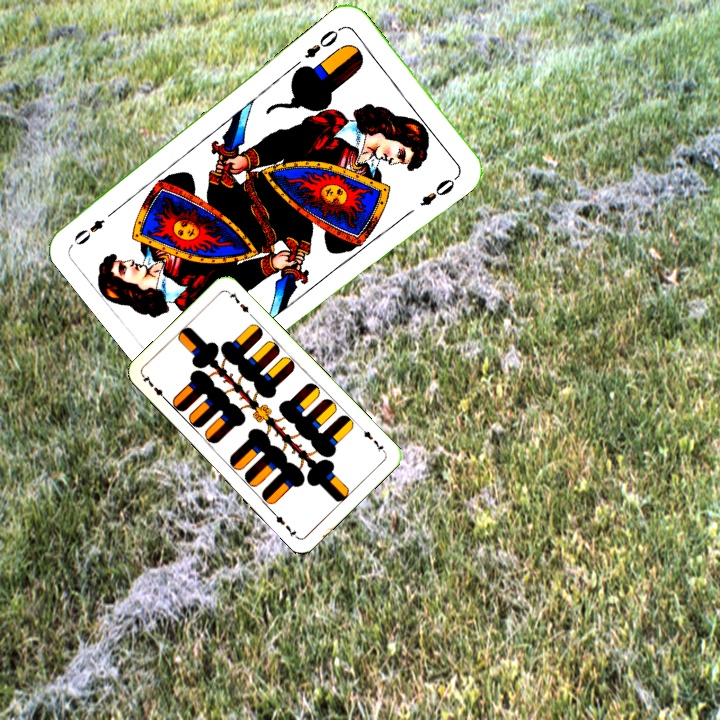E7: (356, 423, 388, 456), (139, 371, 171, 404)
EO: (301, 23, 345, 61)
